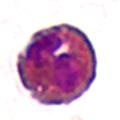eosi: (11, 17, 101, 106)
